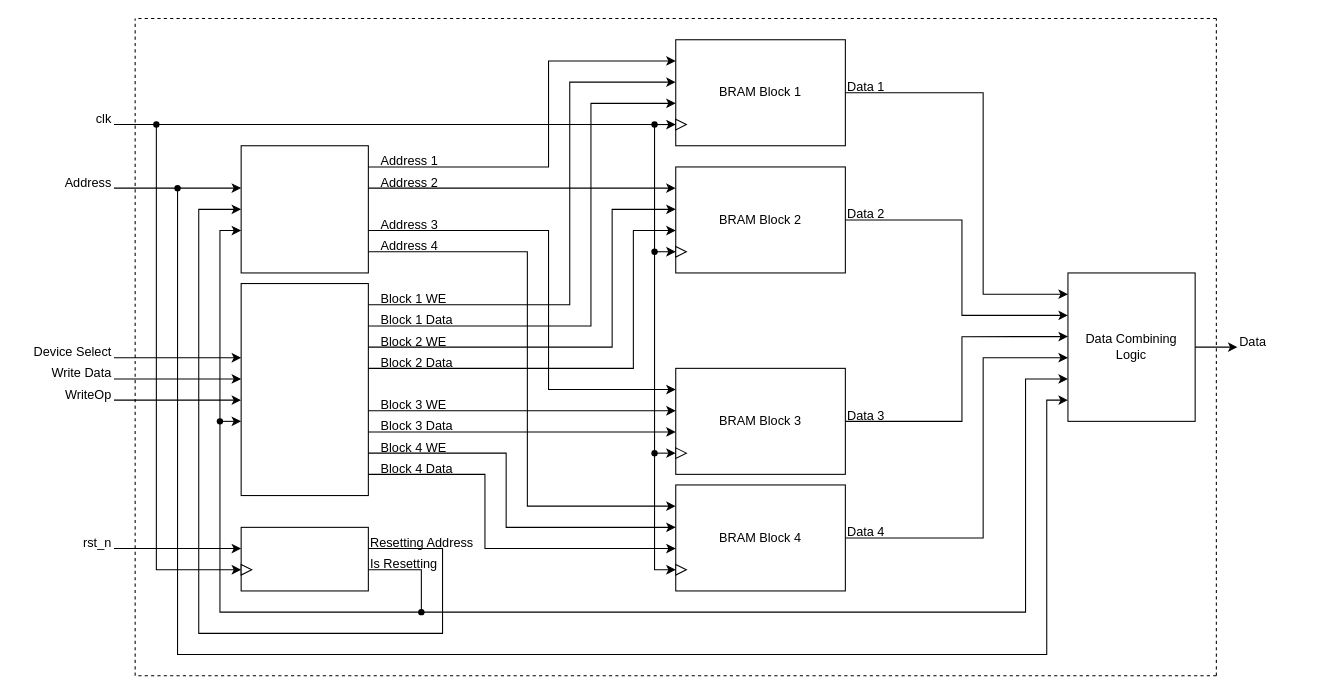
Image size: 1329x695. Some labels were removed from this diagram. The box of each missing label's shape, as (x1, y1, x2, y2) in pixels:
BRAM Address Handling Logic: (240, 145, 368, 273)
BRAM Resetting Logic: (240, 526, 368, 591)
BRAM Write Handling Logic: (240, 282, 368, 496)
